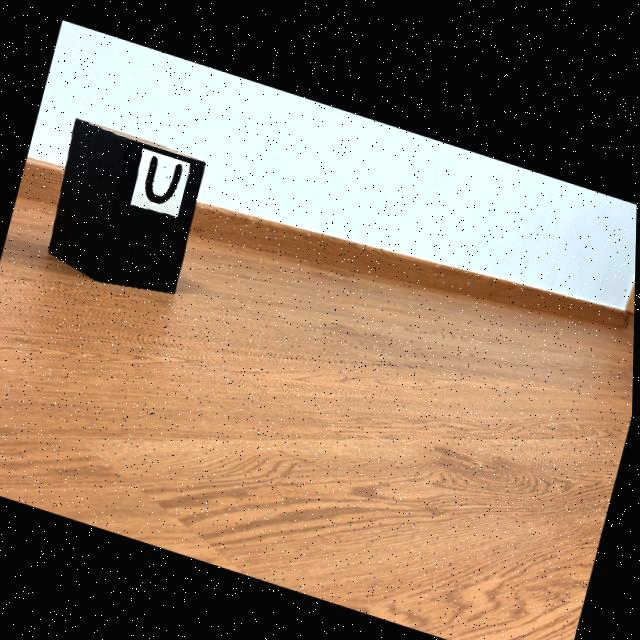U: (145, 154, 182, 201)
